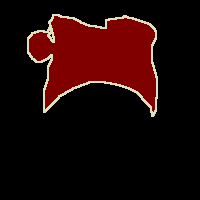hat: (28, 14, 157, 116)
